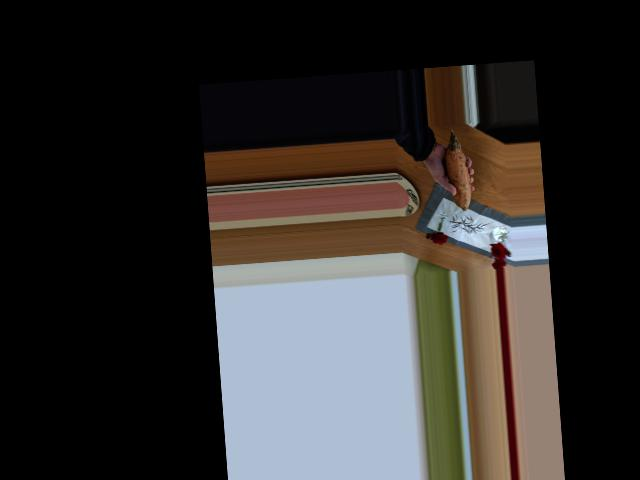sweet_potato: (436, 135, 475, 214)
